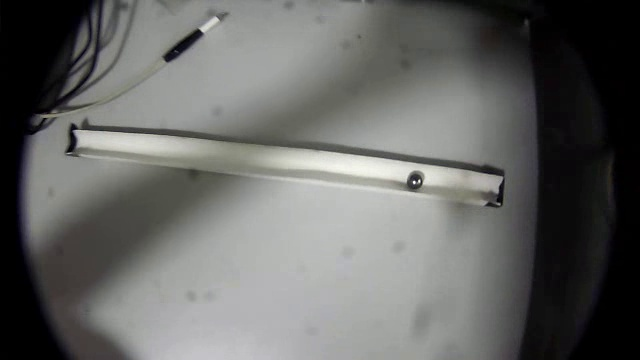gangzhu: (405, 171, 426, 192)
